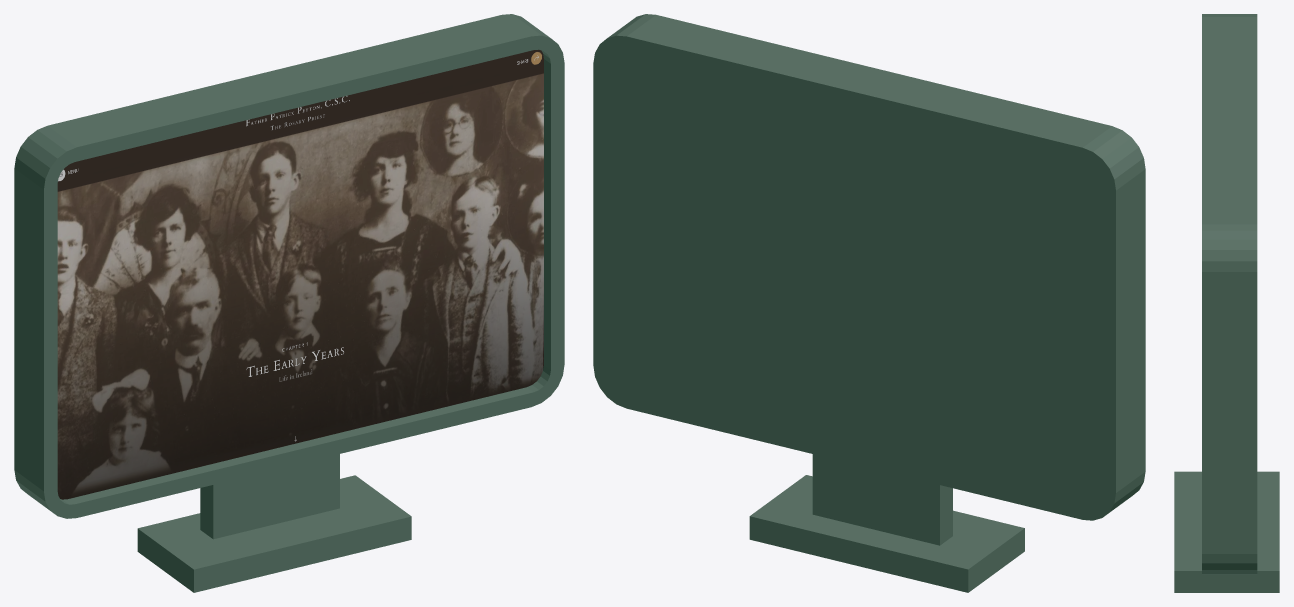
The model's file is fp-screen.glb.
3 renders of one model, left to right at view 1: azimuth 30°, elevation 25°; view 2: azimuth 150°, elevation 25°; view 3: azimuth 270°, elevation 25°, orthographic. The views are drawn at different scales.
Parts seen in each view (by area): view 1: Cube.001; view 2: Cube.001; view 3: Cube.001.
Part boxes in pixels (left/top/right/bottom): Cube.001: left=14, top=14, right=564, bottom=592; Cube.001: left=593, top=14, right=1145, bottom=592; Cube.001: left=1174, top=14, right=1279, bottom=592.
Bounding box in the file's own units: 4.58 × 3.87 × 0.8596.
Materials: 2 (1 with a texture image).
